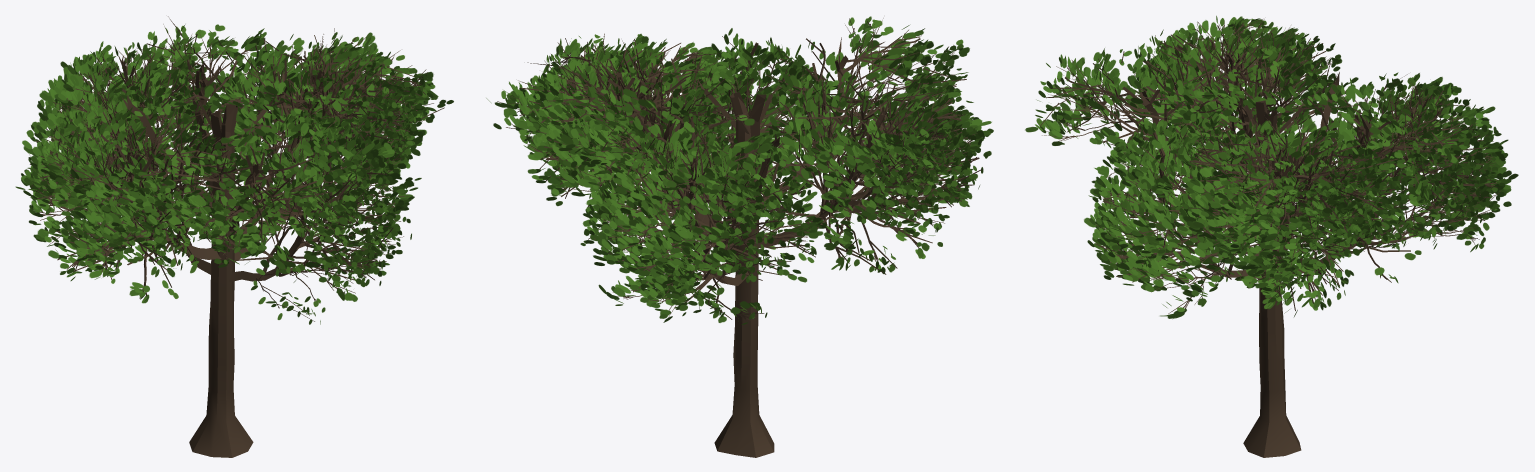
The picture shows the model from 3 angles, left to right: view 1: azimuth 30°, elevation 25°; view 2: azimuth 150°, elevation 25°; view 3: azimuth 270°, elevation 25°; orthographic projection. The views are drawn at different scales.
Parts seen in each view (by area): view 1: oak 01.001_trunk_Mat.001_0.165; view 2: oak 01.001_trunk_Mat.001_0.165; view 3: oak 01.001_trunk_Mat.001_0.165.
Boxes of the visible parts, x1,y1,x2,y2 form: oak 01.001_trunk_Mat.001_0.165: (15, 16, 453, 457); oak 01.001_trunk_Mat.001_0.165: (486, 16, 993, 457); oak 01.001_trunk_Mat.001_0.165: (1025, 15, 1518, 457).
Bounding box in the file's own units: 4.42 × 3.61 × 4.55.
Materials: 2 (1 with a texture image).
